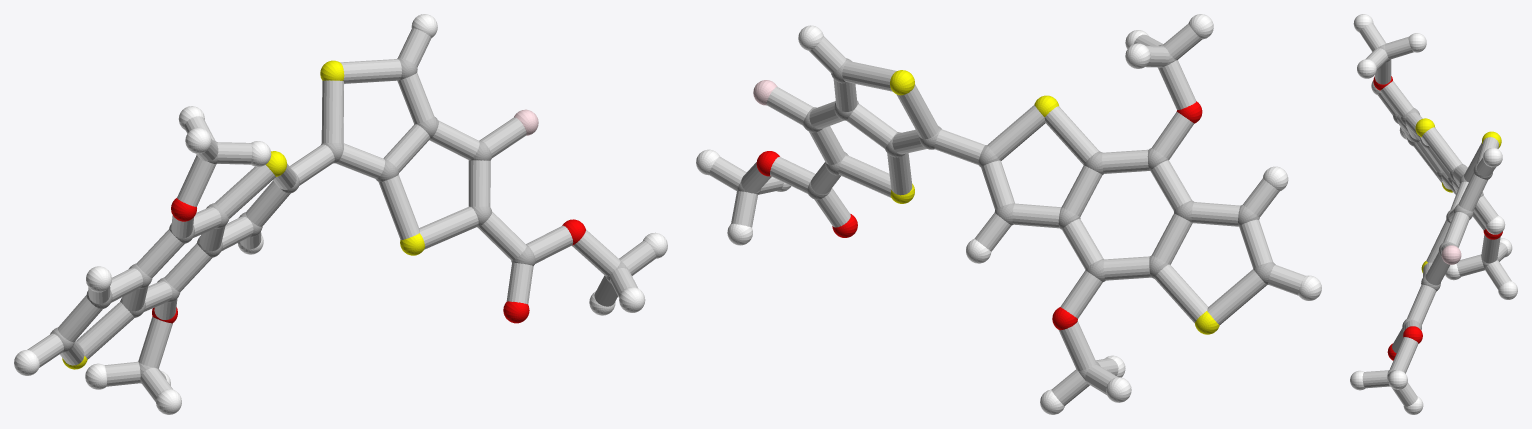
The model's file is Dimethoxy_Benzodithiophene_Phi_10_Theta_120_Methylcarbonyl_3_Fluoro_Thienothiophene.glb.
3 views of the same model, side by side, from view 1: azimuth 30°, elevation 25°; view 2: azimuth 150°, elevation 25°; view 3: azimuth 270°, elevation 25° (orthographic). The views are drawn at different scales.
Parts seen in each view (by area): view 1: grp15205, grp8689, grp1, grp13395, grp7241; view 2: grp15205, grp8689, grp1, grp7241, grp13395; view 3: grp15205, grp8689, grp1, grp13395, grp7241, grp14843.
Part boxes in pixels (left/top/right/bottom): grp15205: left=27, top=28, right=656, bottom=402; grp8689: left=14, top=14, right=667, bottom=414; grp1: left=50, top=58, right=628, bottom=383; grp13395: left=152, top=198, right=585, bottom=323; grp7241: left=62, top=60, right=424, bottom=369; grp15205: left=709, top=23, right=1305, bottom=405; grp8689: left=696, top=14, right=1321, bottom=414; grp1: left=737, top=44, right=1275, bottom=380; grp7241: left=890, top=70, right=1219, bottom=334; grp13395: left=756, top=101, right=1202, bottom=330; grp15205: left=1359, top=23, right=1511, bottom=406; grp8689: left=1350, top=14, right=1517, bottom=414; grp1: left=1378, top=44, right=1498, bottom=386; grp13395: left=1373, top=76, right=1502, bottom=360; grp7241: left=1415, top=118, right=1501, bottom=272; grp14843: left=1441, top=245, right=1461, bottom=264.
Size of the model in its own units: 16.96 by 8.83 by 5.09.
